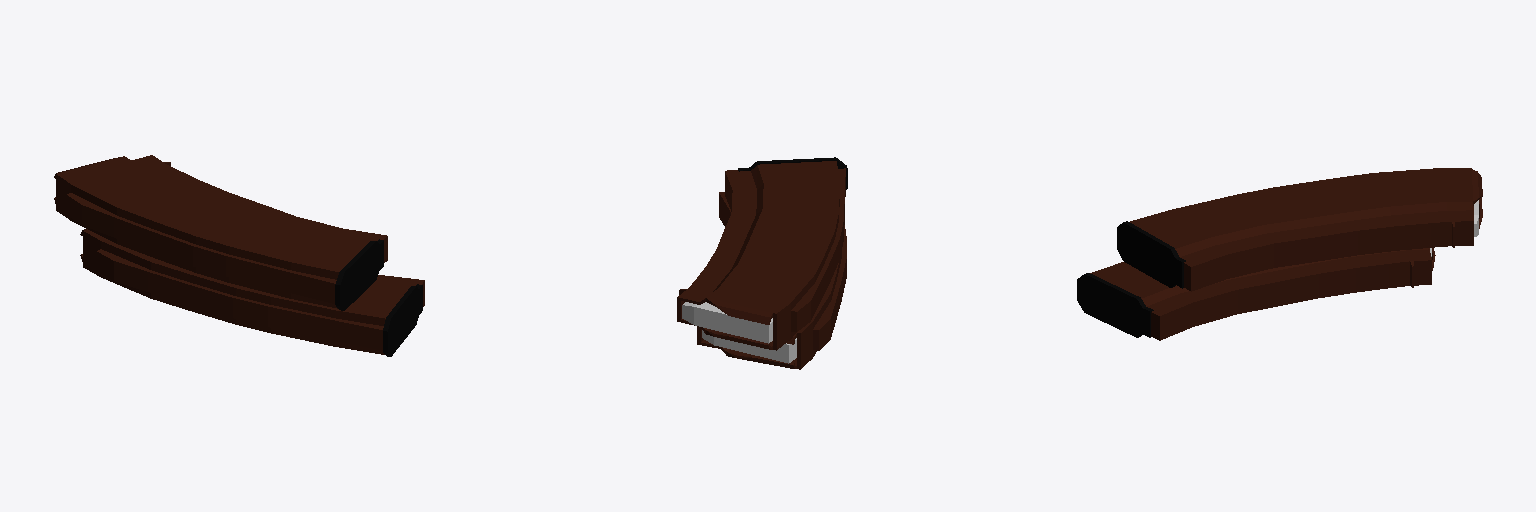
Rendered from ak74ufastmag.obj.
The picture shows the model from 3 angles: view 1: azimuth 30°, elevation 25°; view 2: azimuth 150°, elevation 25°; view 3: azimuth 270°, elevation 25°; orthographic projection.
Parts seen in each view (by area): view 1: ammoModel; view 2: ammoModel; view 3: ammoModel.
Part boxes in pixels (x1,y1,x2,y2): ammoModel: (54,155,424,356); ammoModel: (677,157,847,369); ammoModel: (1077,168,1482,340).
Bounding box in the file's own units: 3.57 × 1.21 × 5.74.